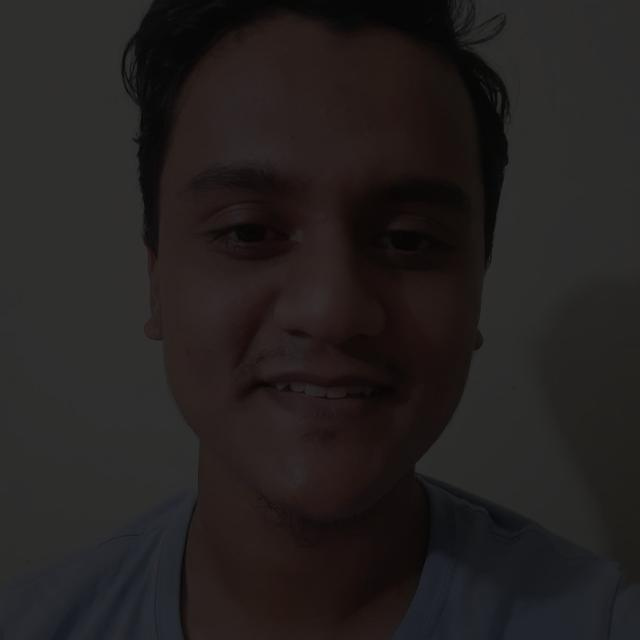Happy: (120, 69, 555, 521)
